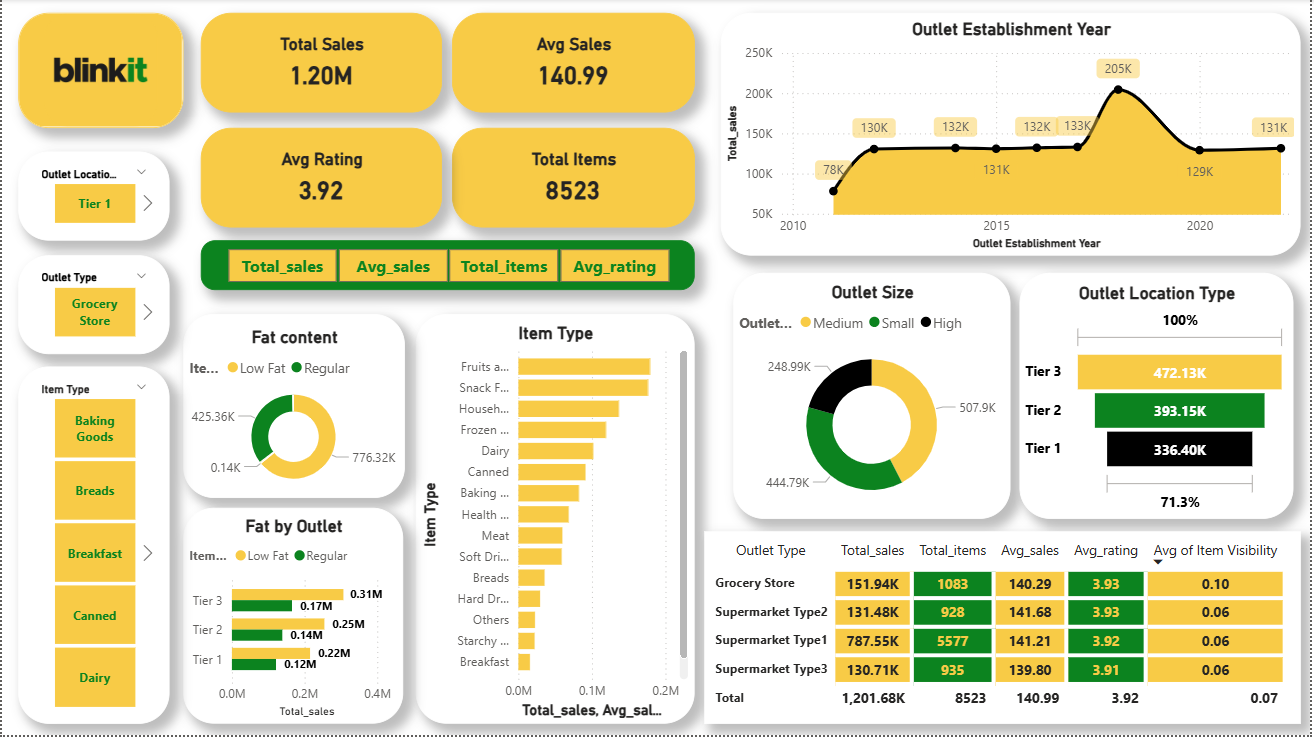

The page's visual inventory and layout, read from the dashboard file:
{"tool":"powerbi","page":{"name":"Page 1","canvas":[1280,720],"ordinal":0},"visuals":[{"type":"image","box":[15.9,13.5,161.4,112.5],"z":0},{"type":"card","title":"Total Sales","fields":{"Values":["BlinkIT Grocery Data.Total_sales"]},"box":[194.4,13.5,236,97.8],"z":1000},{"type":"card","title":"Avg Sales","fields":{"Values":["BlinkIT Grocery Data.Avg_sales"]},"box":[440.2,13.5,237.2,97.8],"z":2000},{"type":"card","title":"Total Items","fields":{"Values":["BlinkIT Grocery Data.Total_items"]},"box":[440.2,126,237.2,97.8],"z":3000},{"type":"card","title":"Avg Rating","fields":{"Values":["BlinkIT Grocery Data.Avg_rating"]},"box":[194.4,126,236,97.8],"z":4000},{"type":"barChart","title":"Item Type","fields":{"Y":["BlinkIT Grocery Data.Total_sales","BlinkIT Grocery Data.Avg_sales","BlinkIT Grocery Data.Total_items","BlinkIT Grocery Data.Avg_rating"],"Category":["BlinkIT Grocery Data.Item Type"]},"box":[404.8,308.2,272.7,401.1],"z":5000},{"type":"donutChart","title":"Fat content","fields":{"Y":["BlinkIT Grocery Data.Total_sales","BlinkIT Grocery Data.Avg_sales","BlinkIT Grocery Data.Total_items","BlinkIT Grocery Data.Avg_rating"],"Category":["BlinkIT Grocery Data.Item Fat Content"]},"box":[177.3,308.2,216.4,179.8],"z":6000},{"type":"clusteredBarChart","title":"Fat by Outlet","fields":{"Y":["BlinkIT Grocery Data.Total_sales"],"Category":["BlinkIT Grocery Data.Outlet Location Type"],"Series":["BlinkIT Grocery Data.Item Fat Content"]},"box":[177.3,497.7,215.2,211.6],"z":7000},{"type":"areaChart","title":"Outlet Establishment Year","fields":{"Category":["BlinkIT Grocery Data.Outlet Establishment Year"],"Y":["BlinkIT Grocery Data.Total_sales"]},"box":[703.1,13.5,567.4,237.2],"z":8000},{"type":"donutChart","title":"Outlet Size","fields":{"Category":["BlinkIT Grocery Data.Outlet Size"],"Y":["BlinkIT Grocery Data.Total_sales"]},"box":[715.4,267.8,271.5,240.9],"z":9000},{"type":"funnel","title":"Outlet Location Type","fields":{"Category":["BlinkIT Grocery Data.Outlet Location Type"],"Y":["Sum(BlinkIT Grocery Data.Sales)"]},"box":[995.4,267.8,267.8,240.9],"z":10000},{"type":"pivotTable","fields":{"Rows":["BlinkIT Grocery Data.Outlet Type"],"Values":["BlinkIT Grocery Data.Total_sales","BlinkIT Grocery Data.Total_items","BlinkIT Grocery Data.Avg_sales","BlinkIT Grocery Data.Avg_rating","Avg(BlinkIT Grocery Data.Item Visibility)"]},"box":[687.2,520.9,583.3,188.3],"z":11000},{"type":"slicer","fields":{"Values":["BlinkIT Grocery Data.Outlet Location Type"]},"box":[15.9,149.2,148,86.8],"z":12000},{"type":"slicer","fields":{"Values":["BlinkIT Grocery Data.Outlet Type"]},"box":[15.9,250.7,148,96.6],"z":13000},{"type":"slicer","fields":{"Values":["BlinkIT Grocery Data.Item Type"]},"box":[15.9,359.5,148,349.7],"z":14000},{"type":"slicer","fields":{"Values":["Parameter.Parameter"]},"box":[194.9,236,483,49],"z":15000}]}

Visuals, with their boxes in screenshot pixels (x1, y1, x2, y2), scaled from the page's 1280x720 canvas onto the 1314x738 screenshot:
image: x1=16, y1=14, x2=182, y2=129
"Total Sales" card: x1=200, y1=14, x2=442, y2=114
"Avg Sales" card: x1=452, y1=14, x2=695, y2=114
"Total Items" card: x1=452, y1=129, x2=695, y2=229
"Avg Rating" card: x1=200, y1=129, x2=442, y2=229
"Item Type" barChart: x1=416, y1=316, x2=695, y2=727
"Fat content" donutChart: x1=182, y1=316, x2=404, y2=500
"Fat by Outlet" clusteredBarChart: x1=182, y1=510, x2=403, y2=727
"Outlet Establishment Year" areaChart: x1=722, y1=14, x2=1304, y2=257
"Outlet Size" donutChart: x1=734, y1=274, x2=1013, y2=521
"Outlet Location Type" funnel: x1=1022, y1=274, x2=1297, y2=521
pivotTable - BlinkIT Grocery Data.Outlet Type x BlinkIT Grocery Data.Total_sales: x1=705, y1=534, x2=1304, y2=727
slicer - BlinkIT Grocery Data.Outlet Location Type: x1=16, y1=153, x2=168, y2=242
slicer - BlinkIT Grocery Data.Outlet Type: x1=16, y1=257, x2=168, y2=356
slicer - BlinkIT Grocery Data.Item Type: x1=16, y1=368, x2=168, y2=727
slicer - Parameter.Parameter: x1=200, y1=242, x2=696, y2=292
